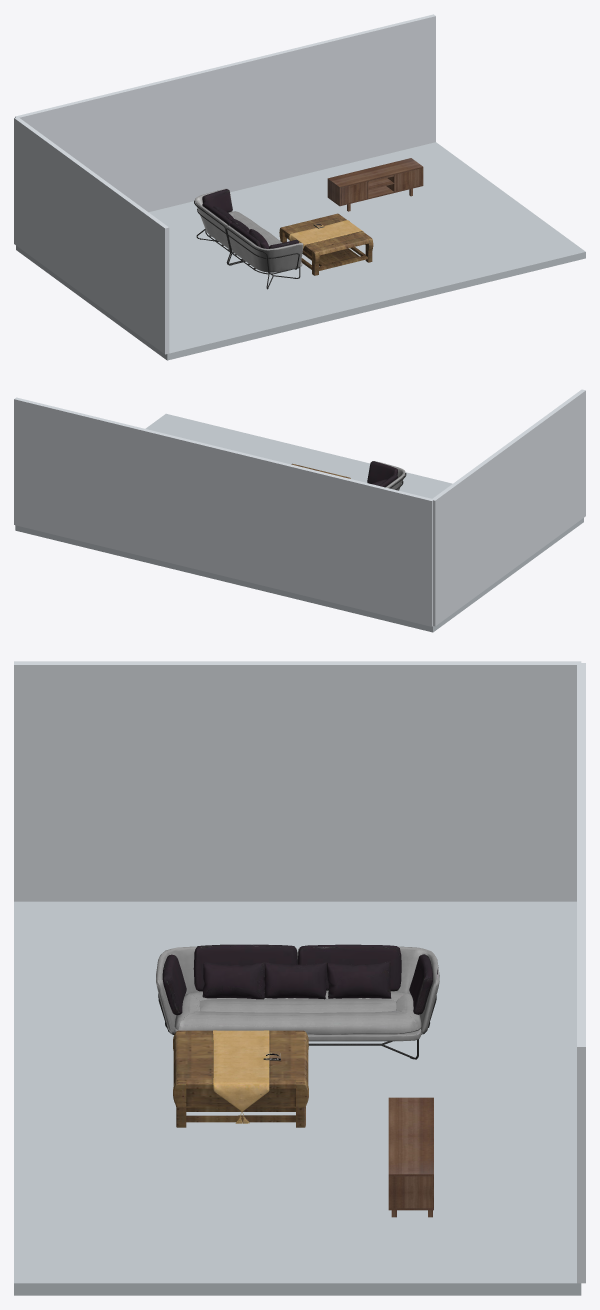
File: stage1.glb
The picture shows the model from 3 angles, top to bottom: view 1: azimuth 30°, elevation 25°; view 2: azimuth 150°, elevation 25°; view 3: azimuth 270°, elevation 25°; orthographic projection. The views are drawn at different scales.
Visible parts, largest first — view 1: wall_back, Floor, wall_left, raw_model, raw_model.001, raw_model.002; view 2: wall_back, wall_left, Floor, raw_model; view 3: Floor, wall_left, raw_model, raw_model.001, wall_back, raw_model.002.
Part boxes in pixels (left/top/right/bottom): wall_back: left=15, top=14, right=435, bottom=212; Floor: left=16, top=142, right=585, bottom=360; wall_left: left=14, top=117, right=169, bottom=354; raw_model: left=194, top=188, right=303, bottom=289; raw_model.001: left=279, top=213, right=373, bottom=275; raw_model.002: left=327, top=158, right=423, bottom=211; wall_back: left=14, top=397, right=433, bottom=626; wall_left: left=432, top=389, right=585, bottom=626; Floor: left=15, top=413, right=583, bottom=632; raw_model: left=367, top=461, right=406, bottom=490; Floor: left=14, top=901, right=581, bottom=1295; wall_left: left=14, top=661, right=581, bottom=901; raw_model: left=156, top=944, right=439, bottom=1059; raw_model.001: left=173, top=1030, right=308, bottom=1127; wall_back: left=577, top=663, right=585, bottom=1283; raw_model.002: left=388, top=1097, right=433, bottom=1217.
Bounding box in the file's own units: 8.04 × 2.42 × 5.04.
Materials: 5 (3 with a texture image).
